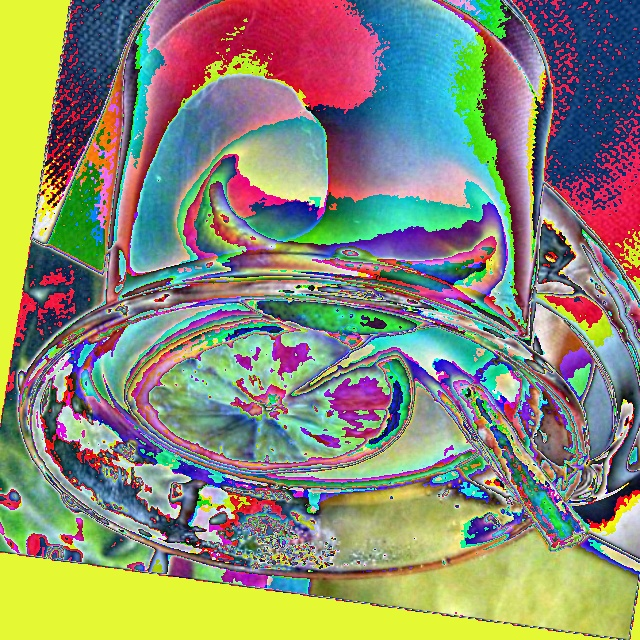background: (97, 0, 549, 484)
